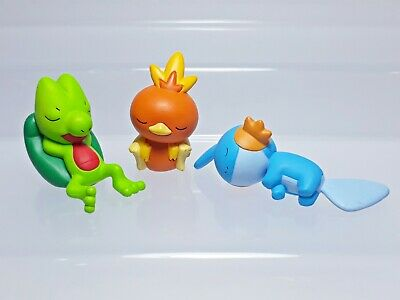mudkip: (197, 114, 391, 223)
